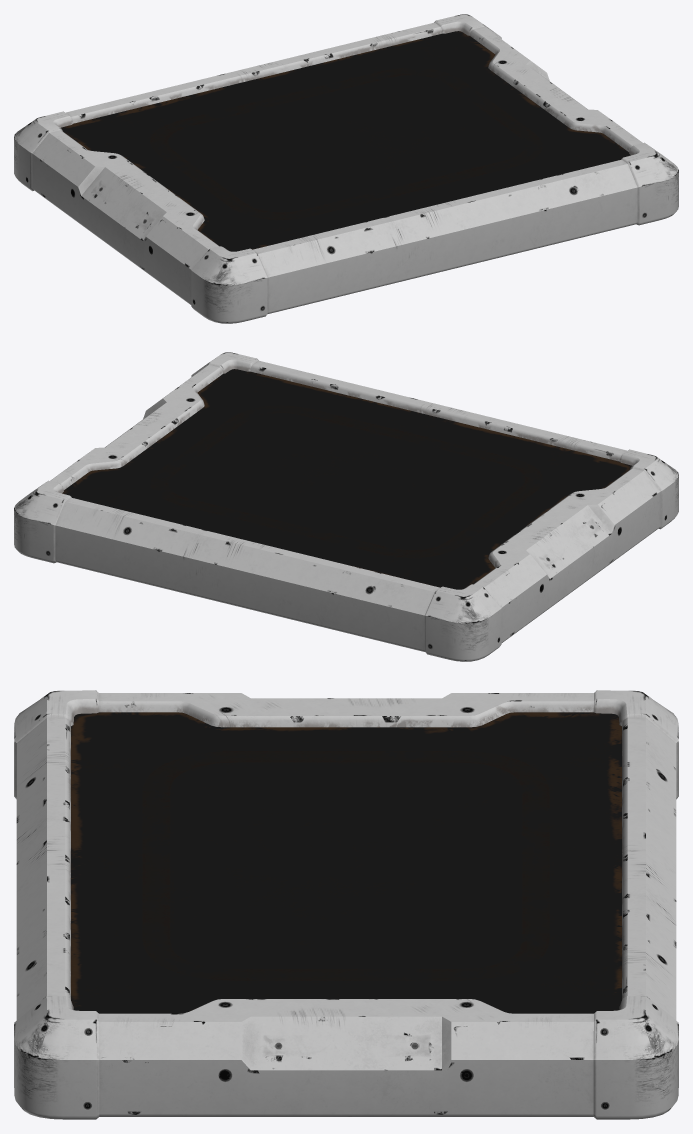
File: GymBox.fbx
3 renders of one model, top to bottom at view 1: azimuth 30°, elevation 25°; view 2: azimuth 150°, elevation 25°; view 3: azimuth 270°, elevation 25°, orthographic. The views are drawn at different scales.
Parts seen in each view (by area): view 1: GymBox001; view 2: GymBox001; view 3: GymBox001.
Boxes of the visible parts, x1,y1,x2,y2 form: GymBox001: (14,14,678,323); GymBox001: (14,352,678,661); GymBox001: (14,690,678,1119).
Bounding box in the file's own units: 236 × 27.08 × 185.
